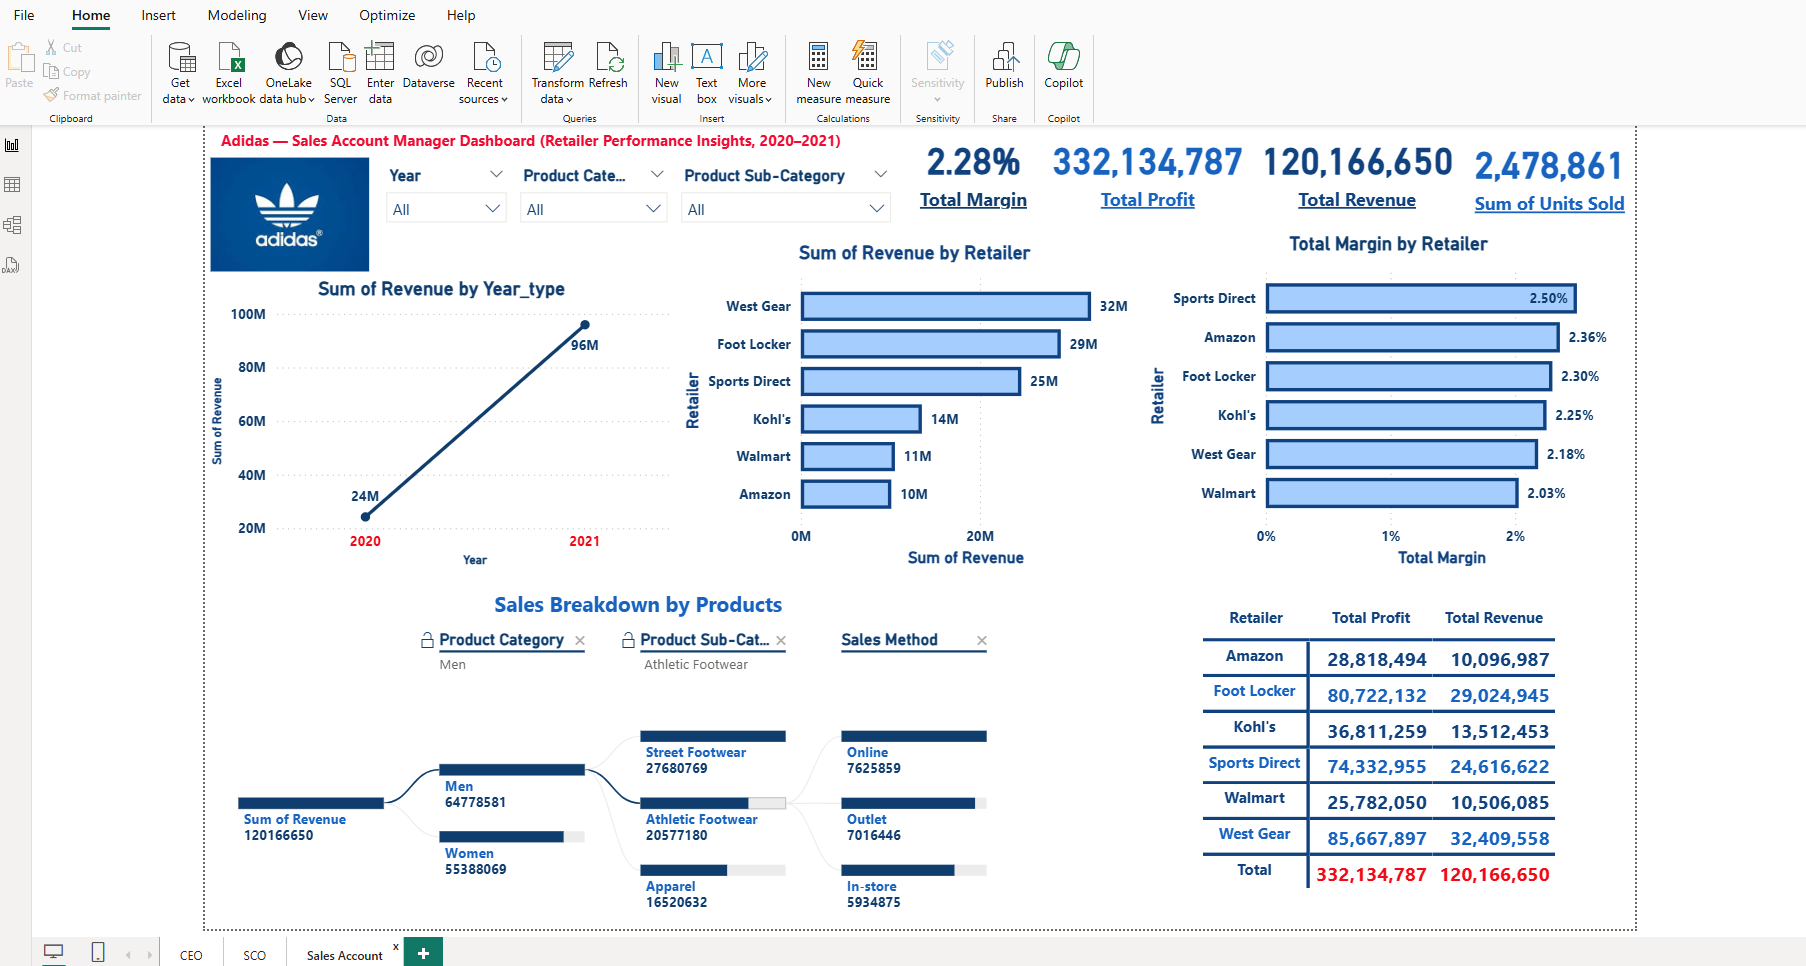

Layout of this report page (visuals, bound fields, positions):
{"tool":"powerbi","page":{"name":"Sales Account ","canvas":[1280,720],"ordinal":2},"visuals":[{"type":"card","fields":{"Values":["Sum(Data Sales Adidas.Units Sold)"]},"box":[1128,0,152,88],"z":0},{"type":"card","fields":{"Values":["Measure.Total Revenue"]},"box":[936,0,192,80],"z":1000},{"type":"card","fields":{"Values":["Measure.Total Profit"]},"box":[752,0,184,80],"z":2000},{"type":"card","fields":{"Values":["Measure.Total Margin"]},"box":[624,0,128,80],"z":3000},{"type":"pivotTable","fields":{"Rows":["Data Sales Adidas.Retailer"],"Values":["Measure.Total Profit","Measure.Total Revenue"]},"box":[888,424,392,296],"z":4000},{"type":"decompositionTreeVisual","title":"Sales Breakdown by  Products","fields":{"ExplainBy":["Data Sales Adidas.Product Category","Data Sales Adidas.Product Sub-Category","Data Sales Adidas.Sales Method"],"Analyze":["Sum(Data Sales Adidas.Revenue)"]},"box":[0,416,776,304],"z":5000},{"type":"textbox","box":[0,0,584,32],"z":6000},{"type":"clusteredBarChart","fields":{"Category":["Data Sales Adidas.Retailer"],"Y":["Sum(Data Sales Adidas.Revenue)"]},"box":[424,104,424,296],"z":7000},{"type":"clusteredBarChart","fields":{"Category":["Data Sales Adidas.Retailer"],"Y":["Measure.Total Margin"]},"box":[840,96,440,304],"z":8000},{"type":"lineChart","fields":{"Y":["Sum(Data Sales Adidas.Revenue)"],"Category":["Data Sales Adidas.Year_type"]},"box":[0,136,424,264],"z":9000},{"type":"image","box":[0,24,152,112],"z":10000},{"type":"slicer","fields":{"Values":["Data Sales Adidas.Year_type"]},"box":[152,32,128,64],"z":11000},{"type":"slicer","fields":{"Values":["Data Sales Adidas.Product Category"]},"box":[272,32,152,64],"z":12000},{"type":"slicer","fields":{"Values":["Data Sales Adidas.Product Sub-Category"]},"box":[416,32,208,64],"z":13000}]}

Visuals, with their boxes on the page's 1280x720 design canvas (x1, y1, x2, y2). These are canvas units, not pixel positions in the 1806x966 screenshot, which may show the page scaled, cropped or inside an application window:
card - Sum(Data Sales Adidas.Units Sold): (1128, 0, 1280, 88)
card - Measure.Total Revenue: (936, 0, 1128, 80)
card - Measure.Total Profit: (752, 0, 936, 80)
card - Measure.Total Margin: (624, 0, 752, 80)
pivotTable - Data Sales Adidas.Retailer x Measure.Total Profit: (888, 424, 1280, 720)
"Sales Breakdown by  Products" decompositionTreeVisual: (0, 416, 776, 720)
textbox: (0, 0, 584, 32)
clusteredBarChart - Data Sales Adidas.Retailer x Sum(Data Sales Adidas.Revenue): (424, 104, 848, 400)
clusteredBarChart - Data Sales Adidas.Retailer x Measure.Total Margin: (840, 96, 1280, 400)
lineChart - Sum(Data Sales Adidas.Revenue) x Data Sales Adidas.Year_type: (0, 136, 424, 400)
image: (0, 24, 152, 136)
slicer - Data Sales Adidas.Year_type: (152, 32, 280, 96)
slicer - Data Sales Adidas.Product Category: (272, 32, 424, 96)
slicer - Data Sales Adidas.Product Sub-Category: (416, 32, 624, 96)
